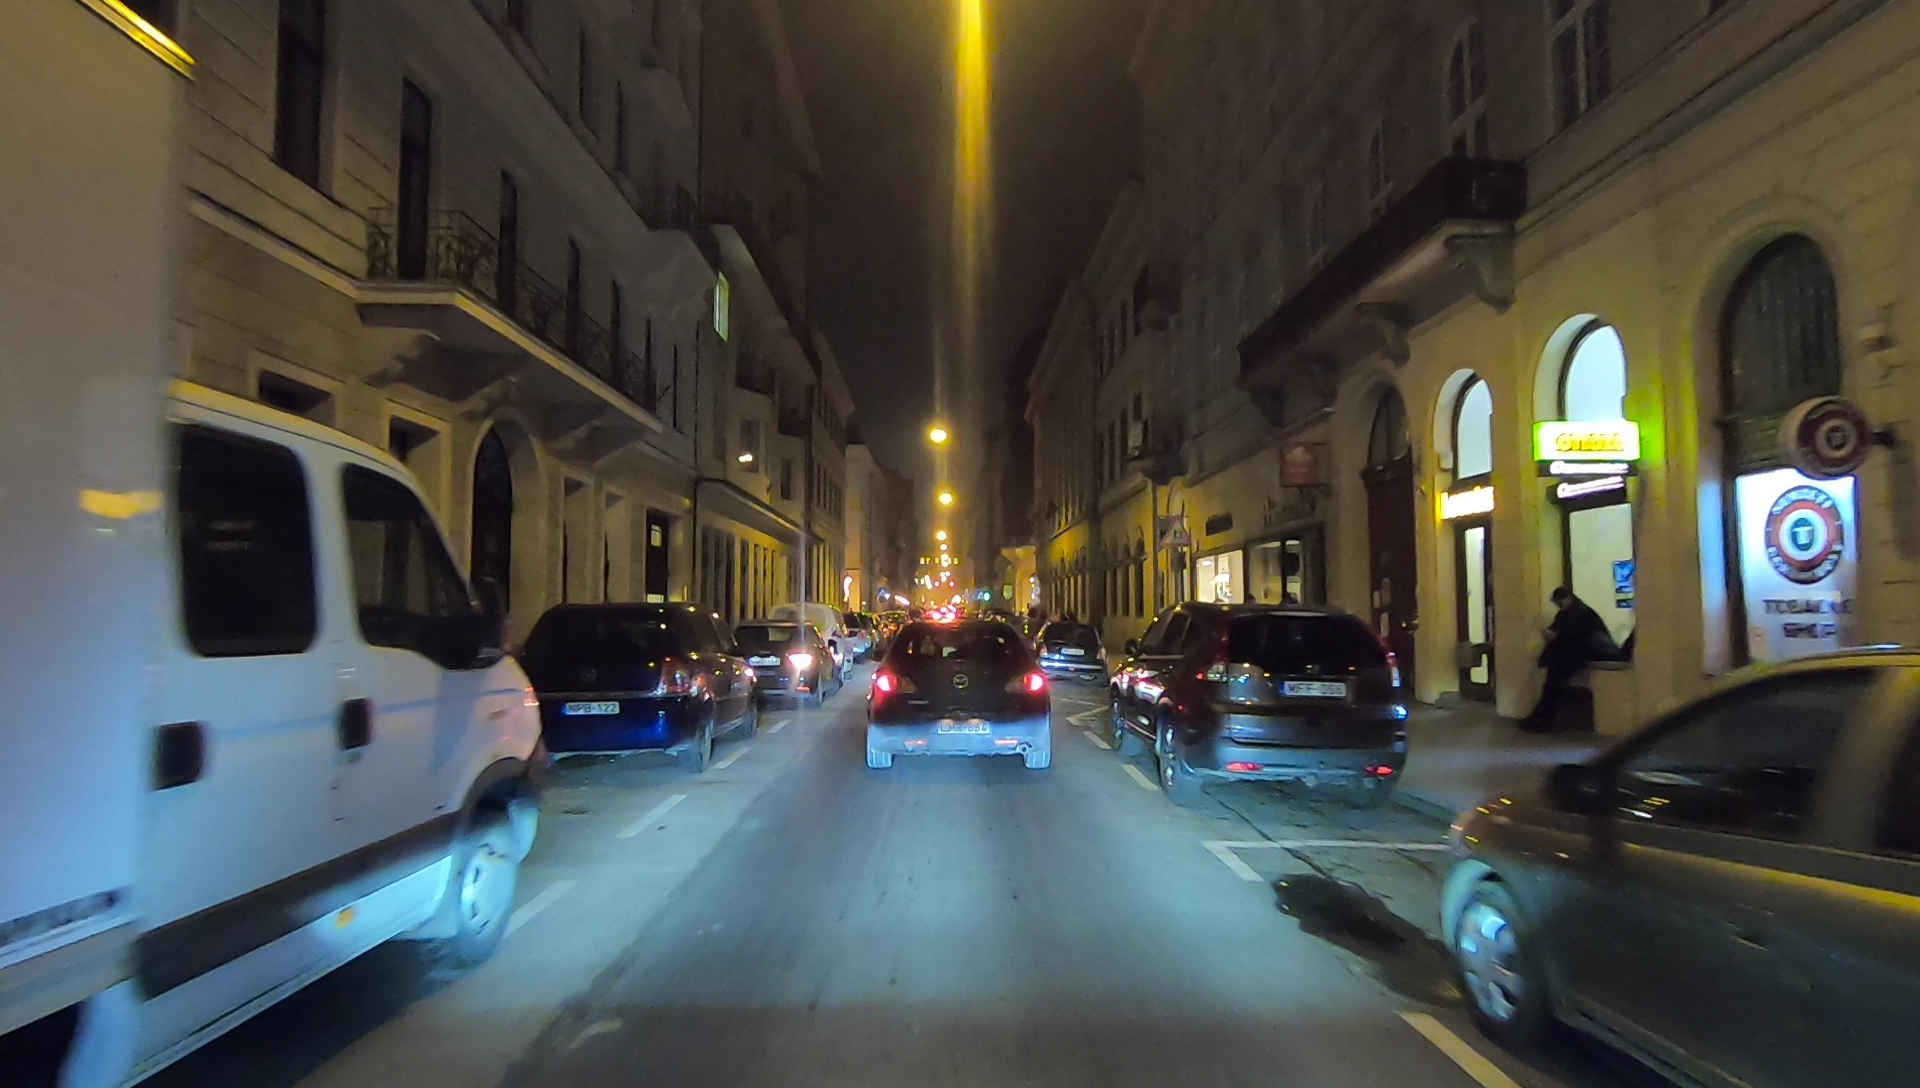person: (1534, 576, 1619, 741)
